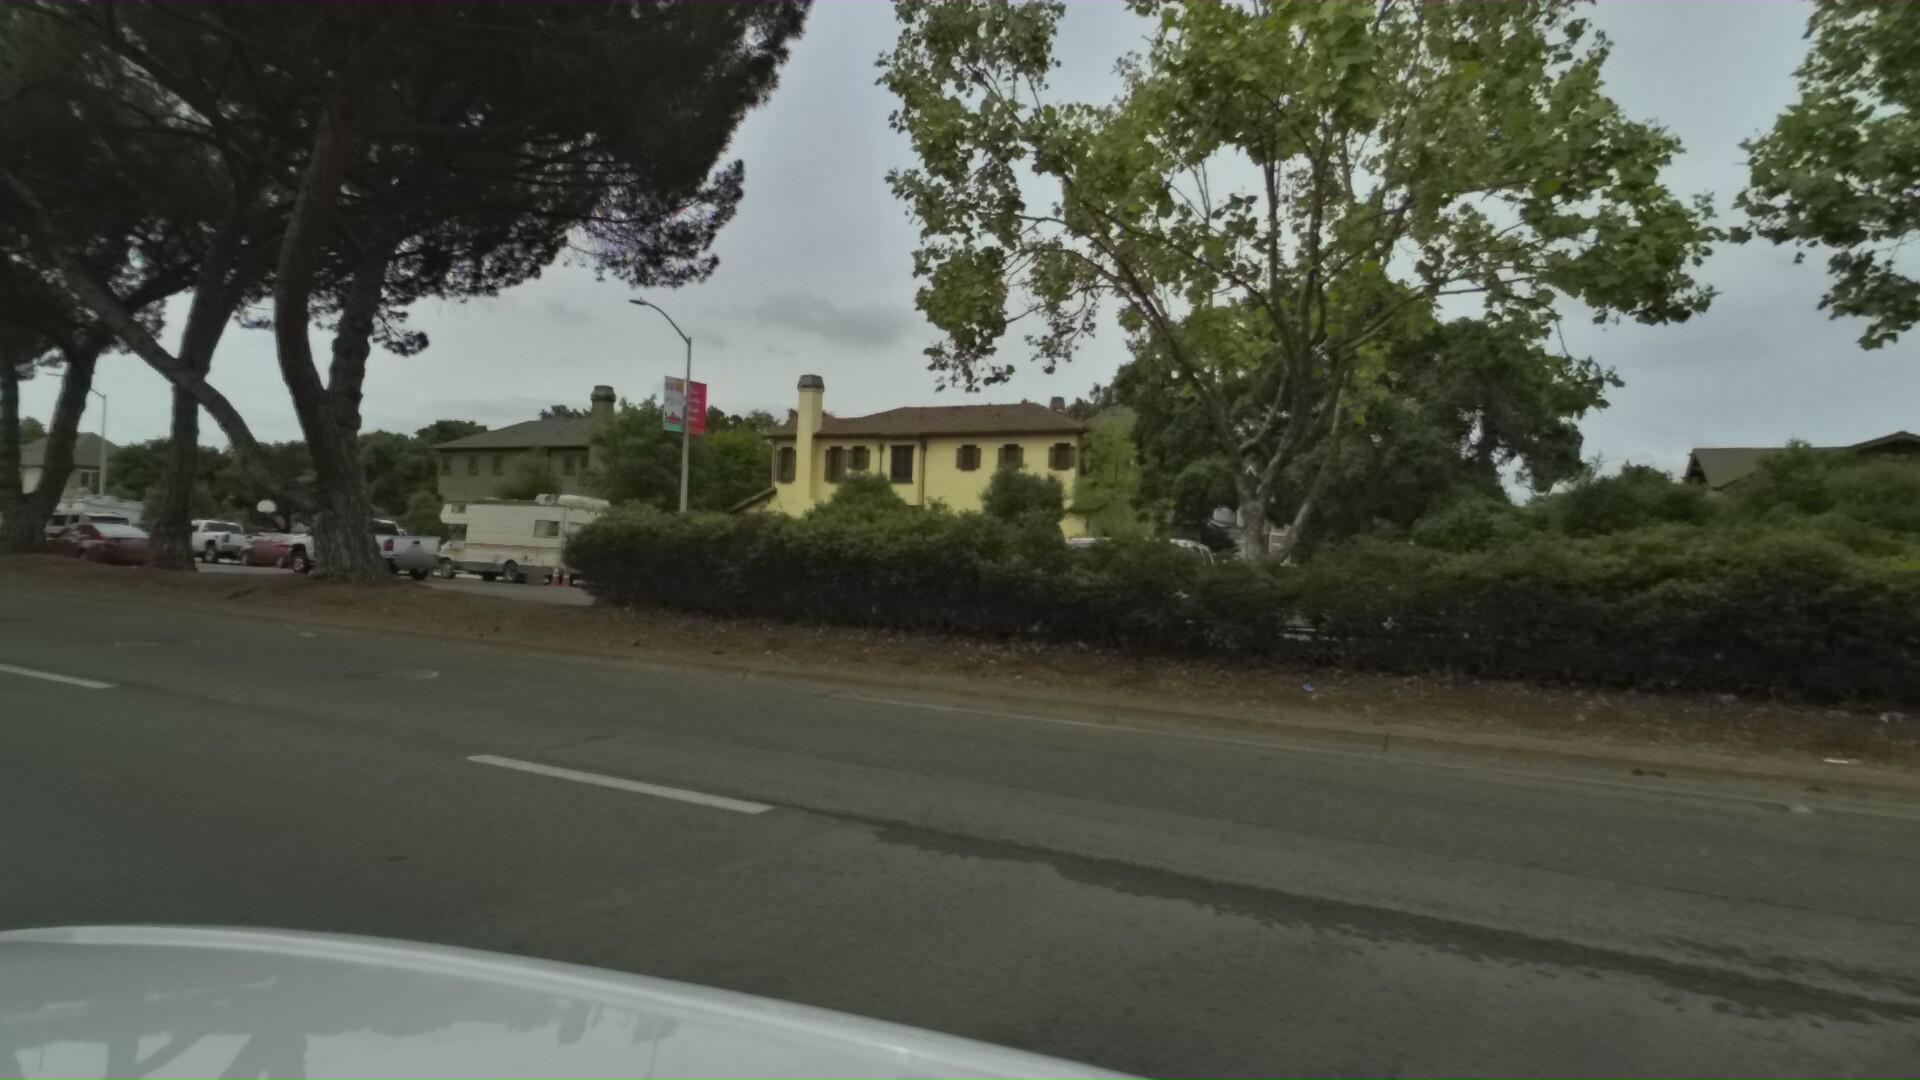car: (957, 529, 1207, 636), (262, 512, 435, 579), (291, 524, 440, 582), (13, 516, 152, 576), (5, 506, 136, 564), (144, 518, 268, 570), (222, 531, 327, 574), (87, 521, 167, 563), (0, 513, 47, 556)
other_vehicle: (411, 493, 640, 595), (15, 496, 142, 562)
